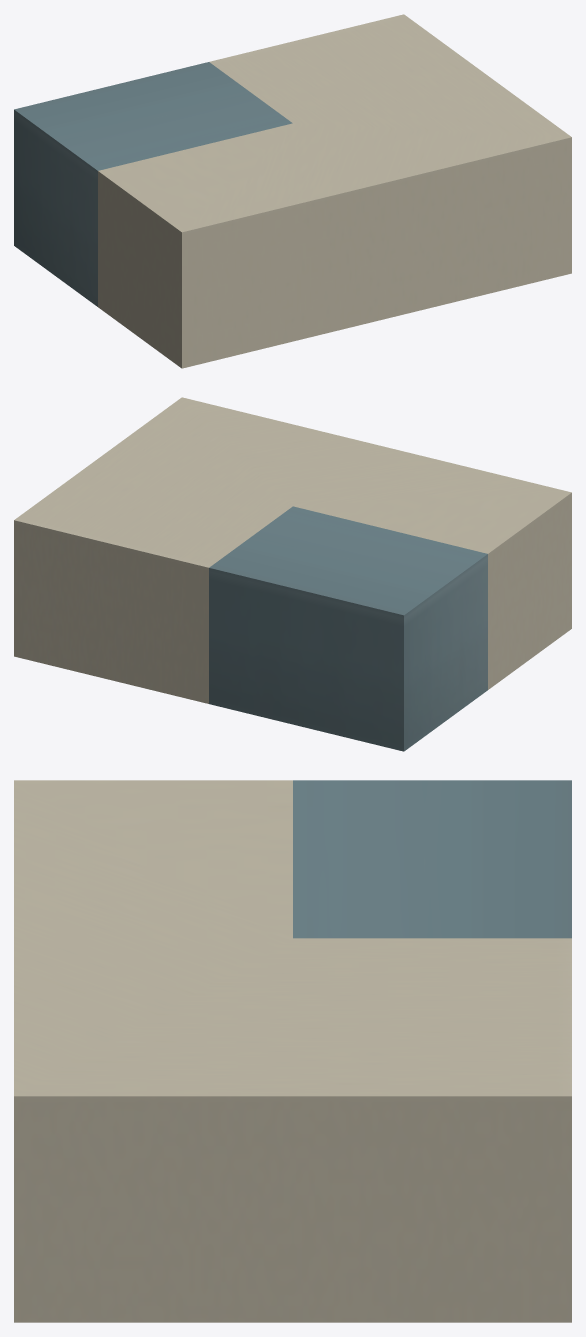
The model's file is set_pillar_01_09_base.fbx.
The picture shows the model from 3 angles, top to bottom: view 1: azimuth 30°, elevation 25°; view 2: azimuth 150°, elevation 25°; view 3: azimuth 270°, elevation 25°; orthographic projection. The views are drawn at different scales.
Parts seen in each view (by area): view 1: set_pillar_01_09_base; view 2: set_pillar_01_09_base; view 3: set_pillar_01_09_base.
Boxes of the visible parts, x1,y1,x2,y2 form: set_pillar_01_09_base: (14,14,571,368); set_pillar_01_09_base: (14,397,571,751); set_pillar_01_09_base: (14,780,571,1322).
Bounding box in the file's own units: 59 × 19.7 × 44.
